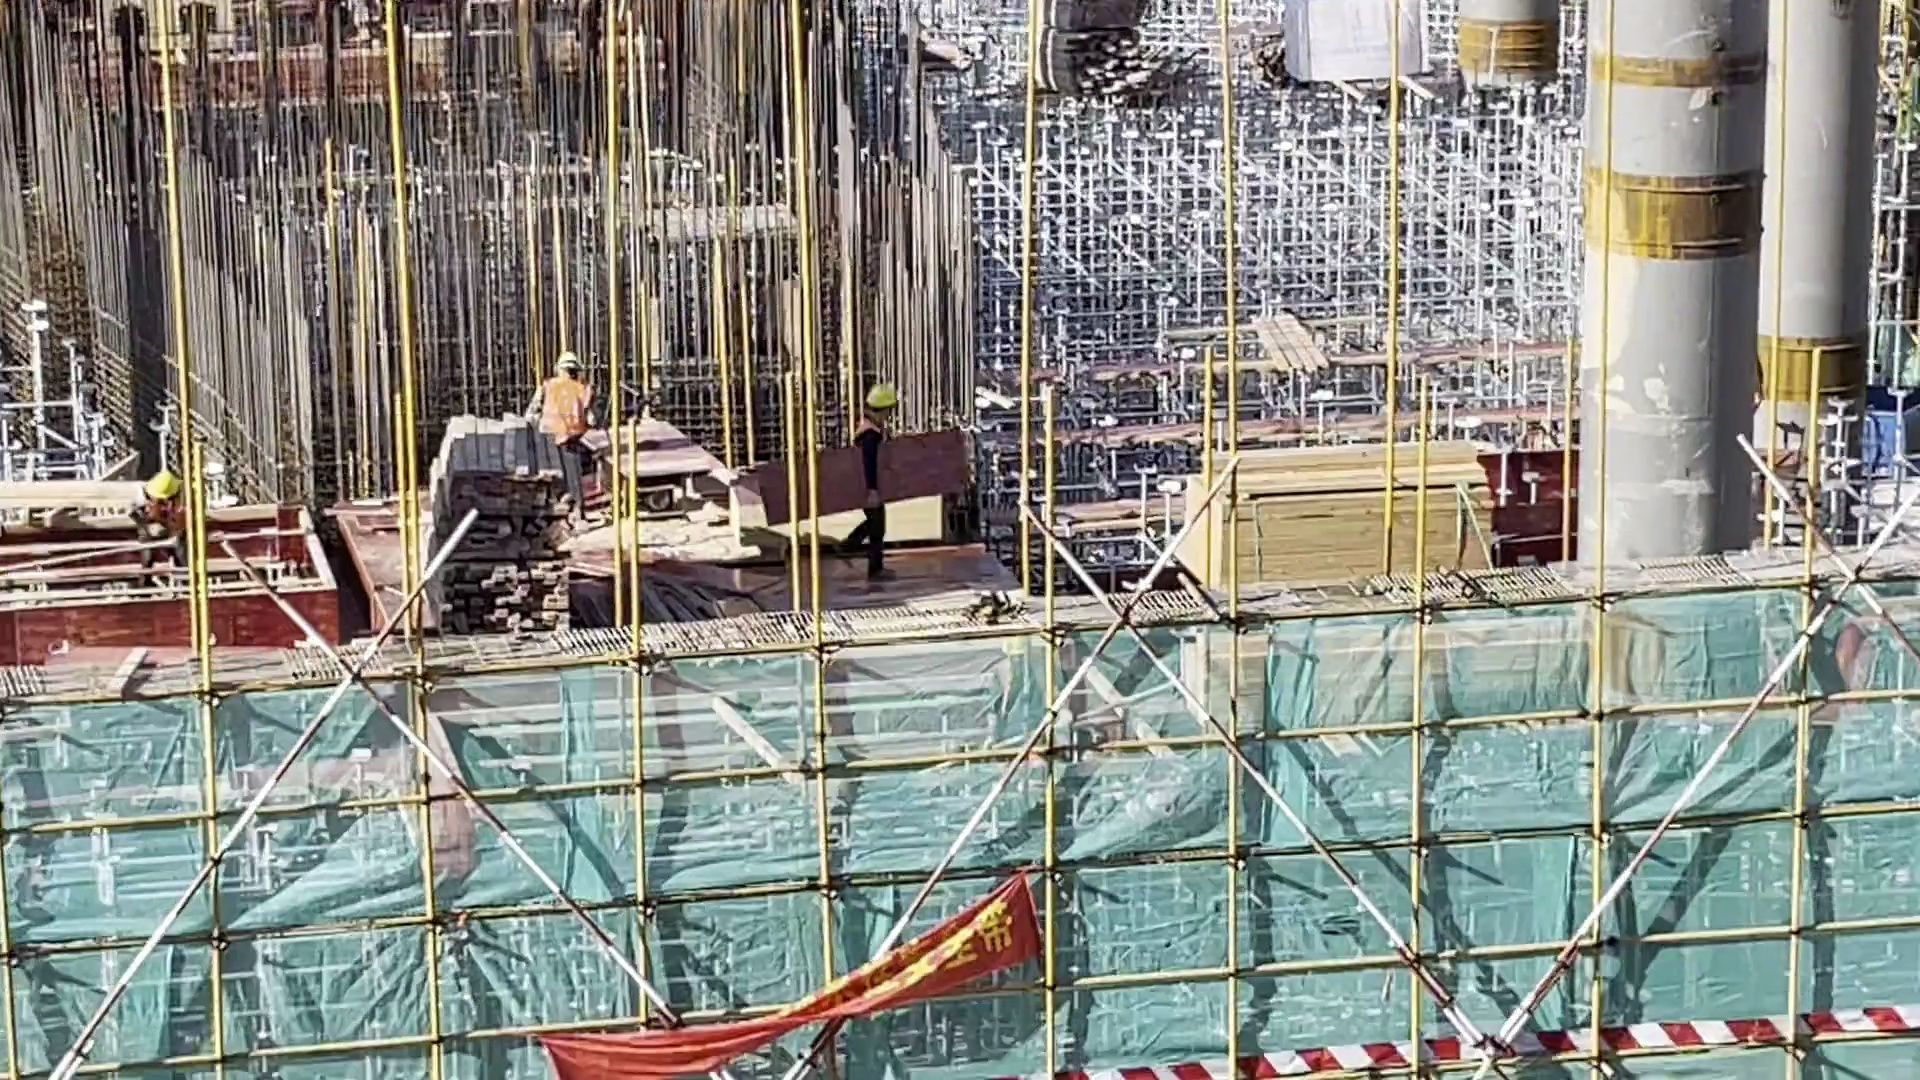helmet: (859, 382, 903, 416), (548, 346, 581, 369)
person: (833, 371, 915, 591), (512, 342, 614, 478)
slogan: (531, 861, 1054, 1080)
vest: (532, 371, 589, 443)
wood: (1177, 418, 1499, 616), (419, 404, 597, 635)
